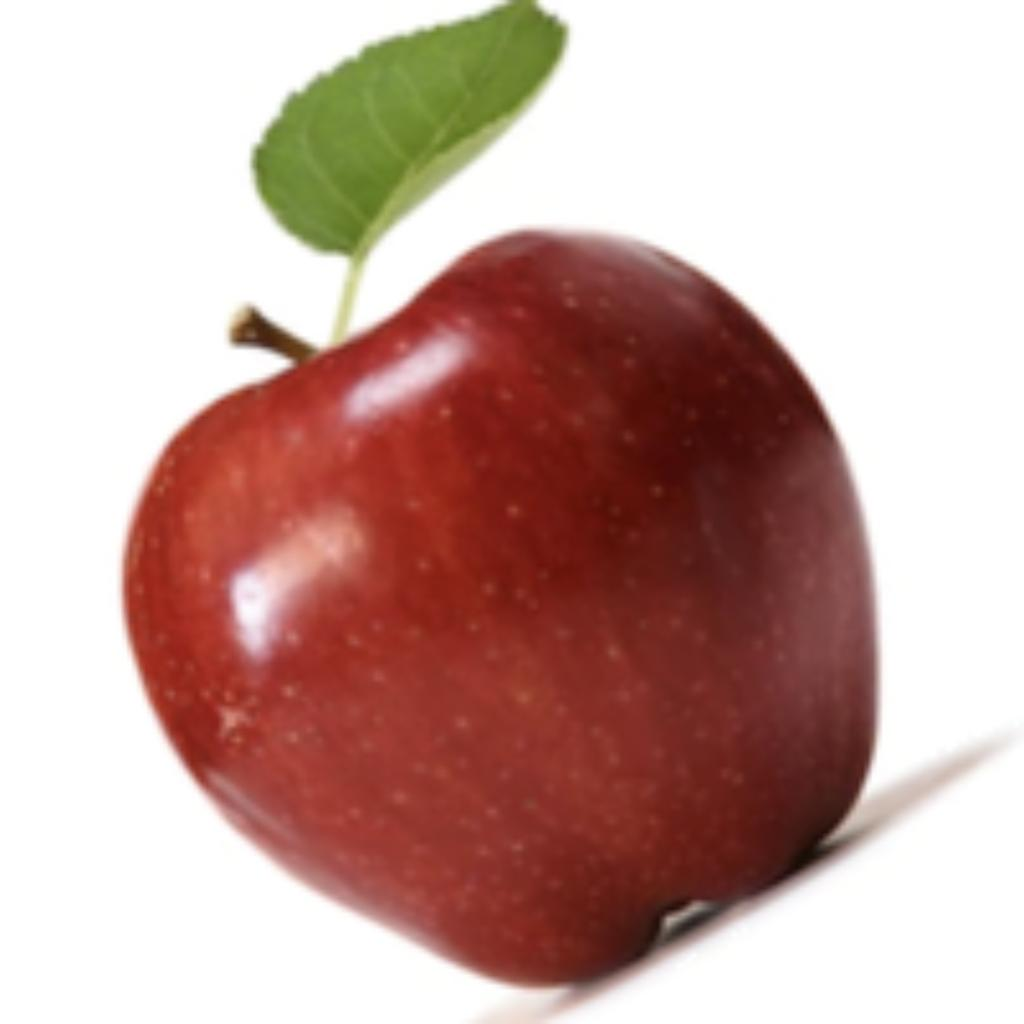apple: (113, 0, 1019, 1019)
